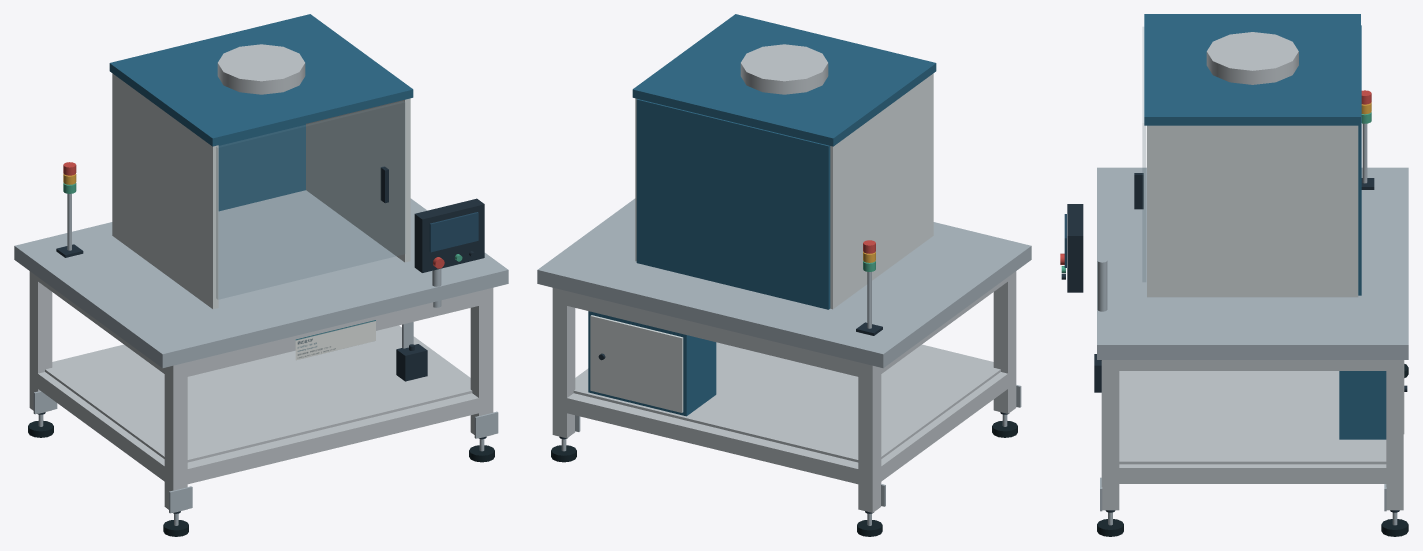
Rendered from annealing-furnace-cell.glb.
The picture shows the model from 3 angles, left to right: view 1: azimuth 30°, elevation 25°; view 2: azimuth 150°, elevation 25°; view 3: azimuth 270°, elevation 25°; orthographic projection. The views are drawn at different scales.
Parts seen in each view (by area): view 1: ClosedMachineBed_28, GuardDoor_52, LowerShelf_29, ChamberRoof_51, ChamberSide_49, ChamberSide_50, SlottedExtrusion_22, ChamberBack_48, FanHousing_63, SlottedExtrusion_23, SlottedExtrusion_8, SlottedExtrusion_24 (+7 smaller); view 2: ChamberBack_48, ClosedMachineBed_28, LowerShelf_29, ChamberRoof_51, ChamberSide_49, BackDoor_31, SlottedExtrusion_20, SlottedExtrusion_21, FanHousing_63, SlottedExtrusion_3, Cabinet_30, SlottedExtrusion_13 (+3 smaller); view 3: ChamberSide_50, ClosedMachineBed_28, LowerShelf_29, ChamberRoof_51, SlottedExtrusion_26, FanHousing_63, Cabinet_30, SlottedExtrusion_27, SlottedExtrusion_18, SlottedExtrusion_13, ConsoleBack_34, GuardDoor_52 (+3 smaller).
Boxes of the visible parts, <box> form: ClosedMachineBed_28: <box>14,190,508,368</box>; GuardDoor_52: <box>216,101,405,299</box>; LowerShelf_29: <box>45,326,472,462</box>; ChamberRoof_51: <box>109,14,413,146</box>; ChamberSide_49: <box>112,73,218,309</box>; ChamberSide_50: <box>306,98,410,262</box>; SlottedExtrusion_22: <box>180,393,478,485</box>; ChamberBack_48: <box>218,124,305,211</box>; FanHousing_63: <box>217,44,305,94</box>; SlottedExtrusion_23: <box>180,291,478,378</box>; SlottedExtrusion_8: <box>164,362,187,512</box>; SlottedExtrusion_24: <box>37,372,168,484</box>; ChamberBack_48: <box>636,99,830,309</box>; ClosedMachineBed_28: <box>537,198,1031,368</box>; LowerShelf_29: <box>573,342,1000,462</box>; ChamberRoof_51: <box>632,14,936,146</box>; ChamberSide_49: <box>830,73,933,309</box>; BackDoor_31: <box>590,315,683,412</box>; SlottedExtrusion_20: <box>567,393,865,485</box>; SlottedExtrusion_21: <box>559,291,865,378</box>; FanHousing_63: <box>740,44,828,94</box>; SlottedExtrusion_3: <box>858,362,881,512</box>; Cabinet_30: <box>588,311,716,416</box>; SlottedExtrusion_13: <box>552,287,575,438</box>; ChamberSide_50: <box>1147,125,1358,297</box>; ClosedMachineBed_28: <box>1097,167,1408,359</box>; LowerShelf_29: <box>1119,371,1386,464</box>; ChamberRoof_51: <box>1144,14,1360,125</box>; SlottedExtrusion_26: <box>1115,464,1386,483</box>; FanHousing_63: <box>1206,32,1298,84</box>; Cabinet_30: <box>1339,371,1386,439</box>; SlottedExtrusion_27: <box>1110,360,1394,370</box>; SlottedExtrusion_18: <box>1101,360,1119,510</box>; SlottedExtrusion_13: <box>1386,360,1403,510</box>; ConsoleBack_34: <box>1067,204,1083,292</box>; GuardDoor_52: <box>1142,27,1145,281</box>.
Bounding box in the file's own units: 1.55 × 1.64 × 1.29.
12 materials, 1 textured.
